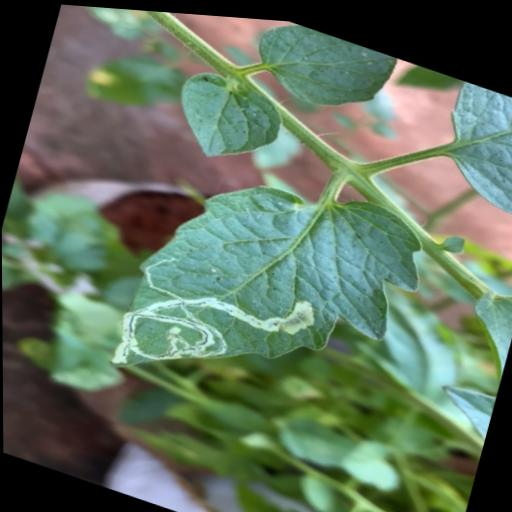Leaf_Miner: (105, 126, 434, 454)
